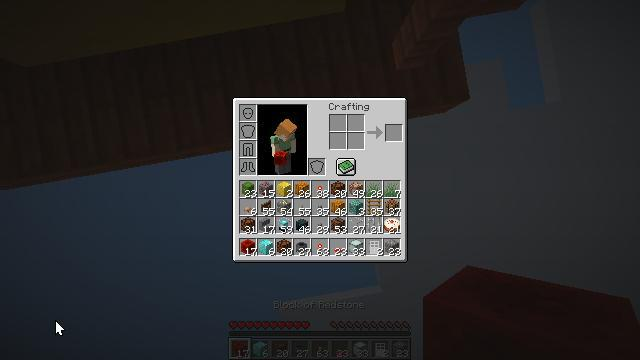cursor: (55, 320, 65, 336)
